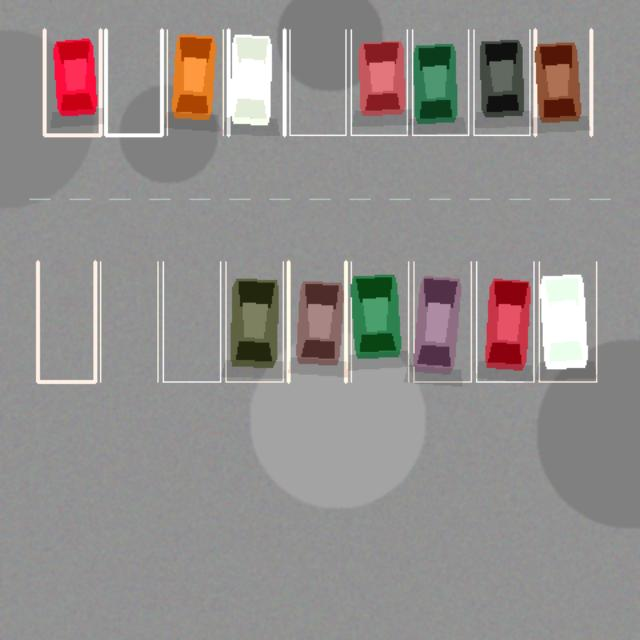space-empty: (37, 261, 95, 381), (100, 261, 157, 381), (163, 261, 220, 381), (105, 29, 161, 135), (289, 29, 345, 135)
space-occupied: (225, 261, 283, 381), (413, 261, 471, 381), (288, 261, 345, 381), (351, 261, 408, 381), (476, 261, 533, 381), (539, 261, 596, 381), (44, 29, 100, 135), (167, 29, 223, 135), (228, 29, 284, 135), (351, 29, 407, 135), (412, 29, 468, 135), (473, 29, 529, 135), (535, 29, 591, 135)
